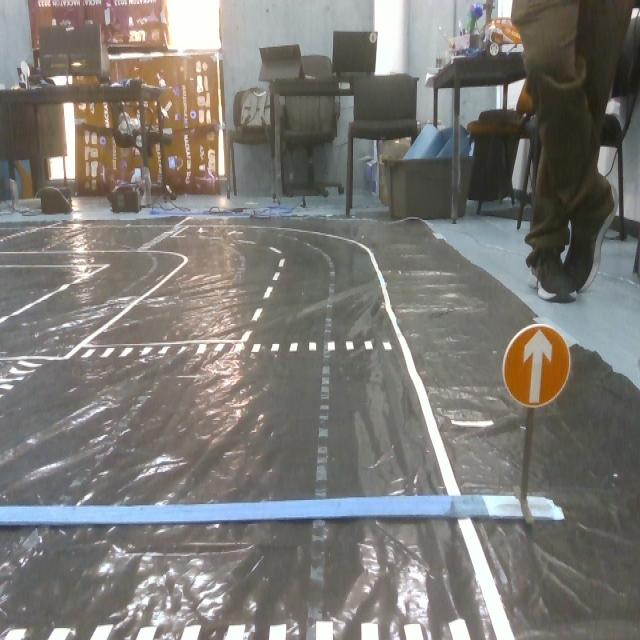right_turn: (497, 320, 575, 412)
